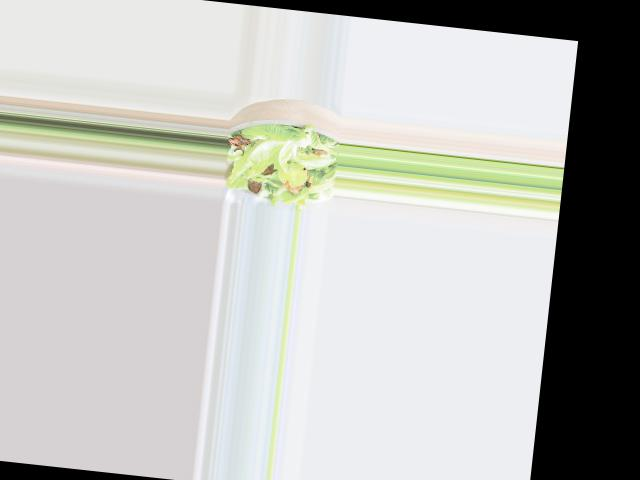lettuce: (232, 119, 335, 207)
